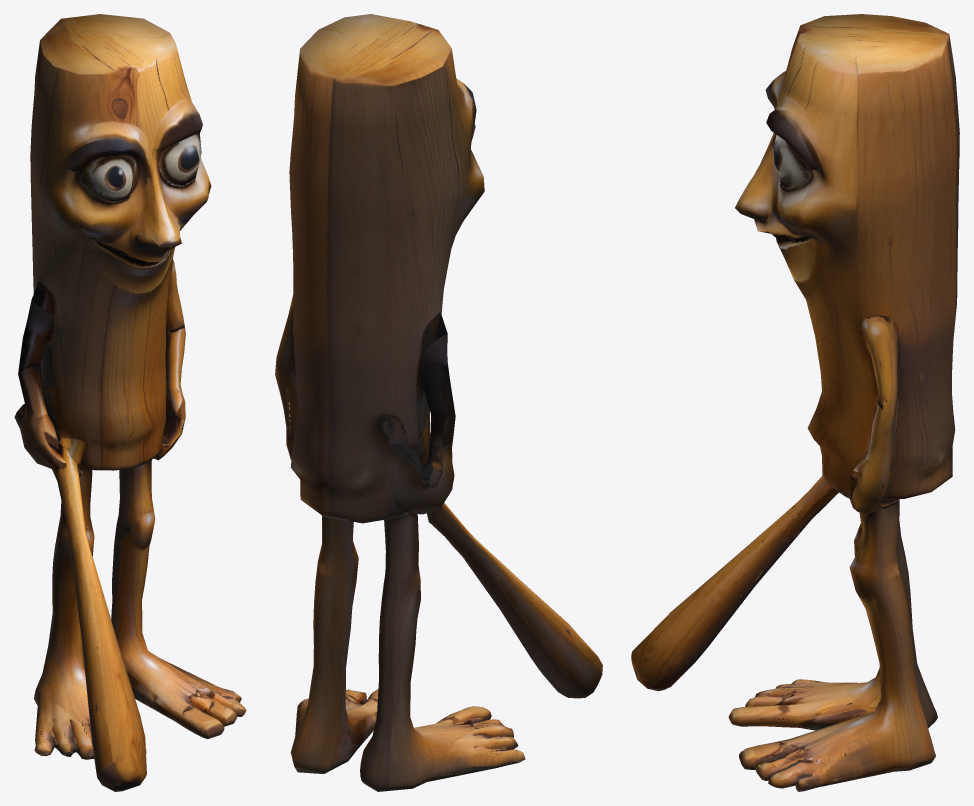
File: tung tung.fbx
3 views of the same model, side by side, from view 1: azimuth 30°, elevation 25°; view 2: azimuth 150°, elevation 25°; view 3: azimuth 270°, elevation 25° (orthographic). The views are drawn at different scales.
Parts seen in each view (by area): view 1: tung tung tung sahur hhh; view 2: tung tung tung sahur hhh; view 3: tung tung tung sahur hhh.
Part boxes in pixels (left/top/right/bottom): tung tung tung sahur hhh: left=14, top=14, right=246, bottom=791; tung tung tung sahur hhh: left=275, top=14, right=602, bottom=791; tung tung tung sahur hhh: left=631, top=14, right=959, bottom=791.
Bounding box in the file's own units: 65.16 × 196 × 82.6.
Materials: 1 (1 with a texture image).
